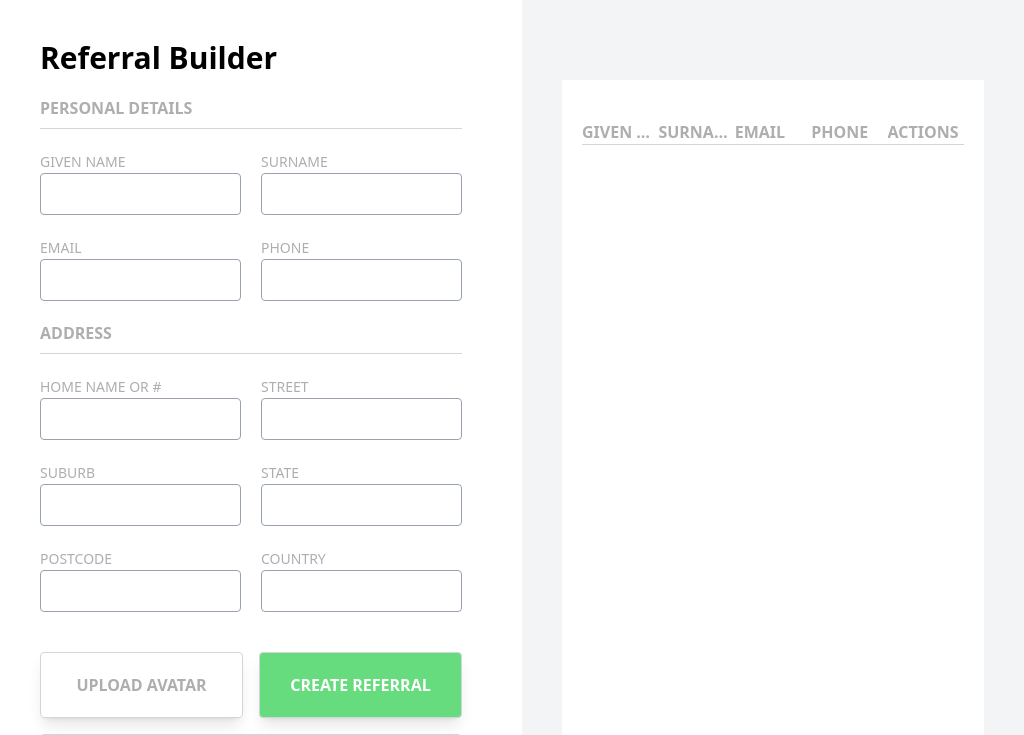
Test: REFERRAL › should be able to create referral
The width and height of the screenshot is (1024, 735).
In the field labelled "GIVEN NAME": {"x": 141, "y": 194} [40,173,241,215], type "John"
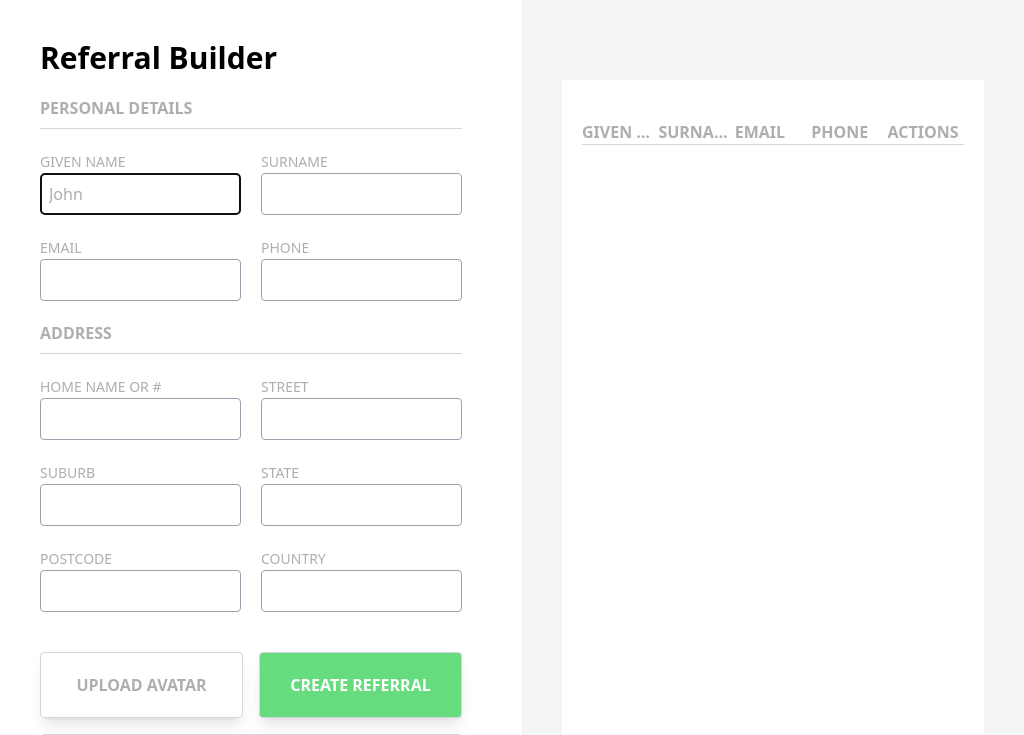
In the field labelled "SURNAME": {"x": 362, "y": 194} [261,173,462,215], type "Doe"
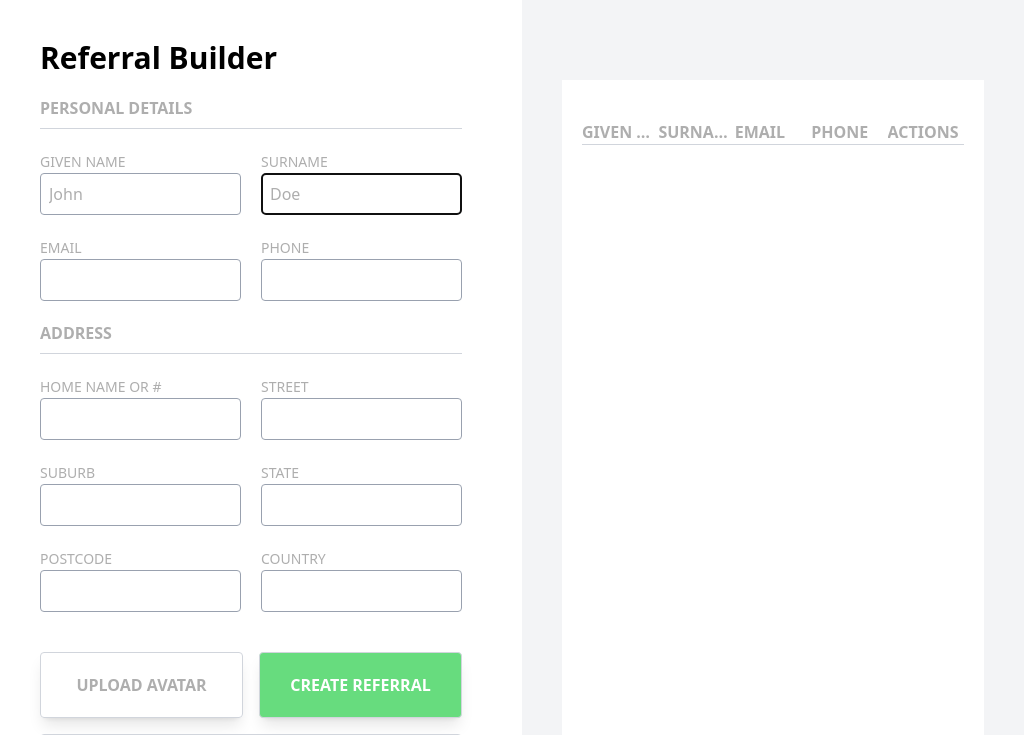
In the field labelled "EMAIL": {"x": 141, "y": 280} [40,259,241,301], type "johndoe@test.com"
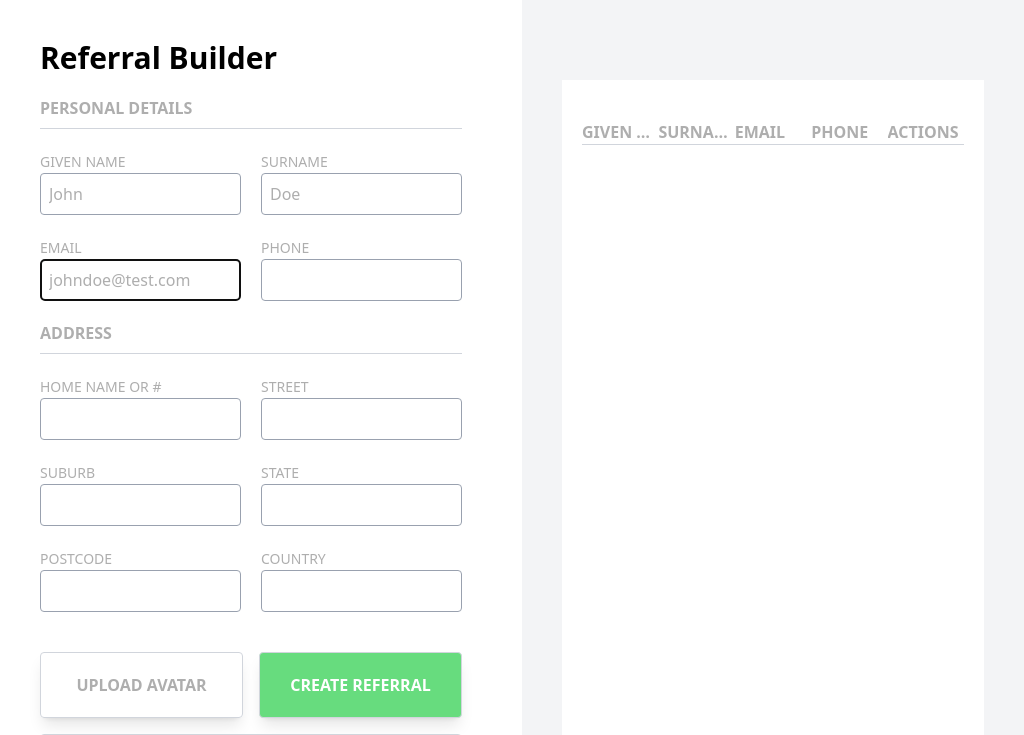
In the field labelled "PHONE": {"x": 362, "y": 280} [261,259,462,301], type "1234567890"
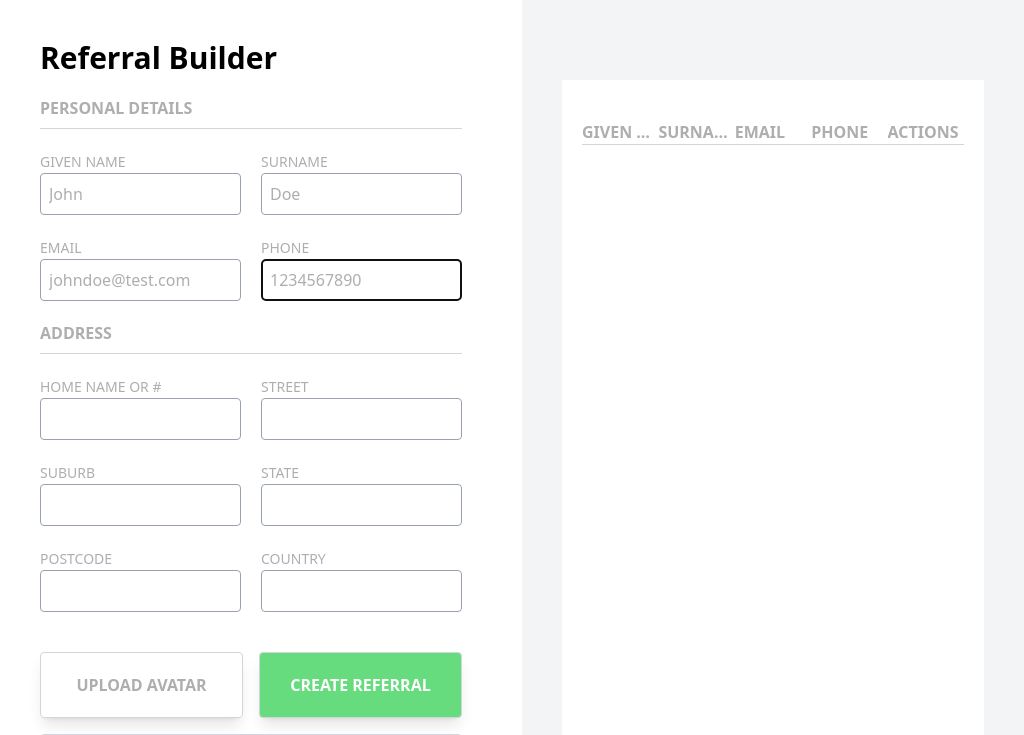
Click the button "create referral": {"x": 361, "y": 685} [259,652,462,718]
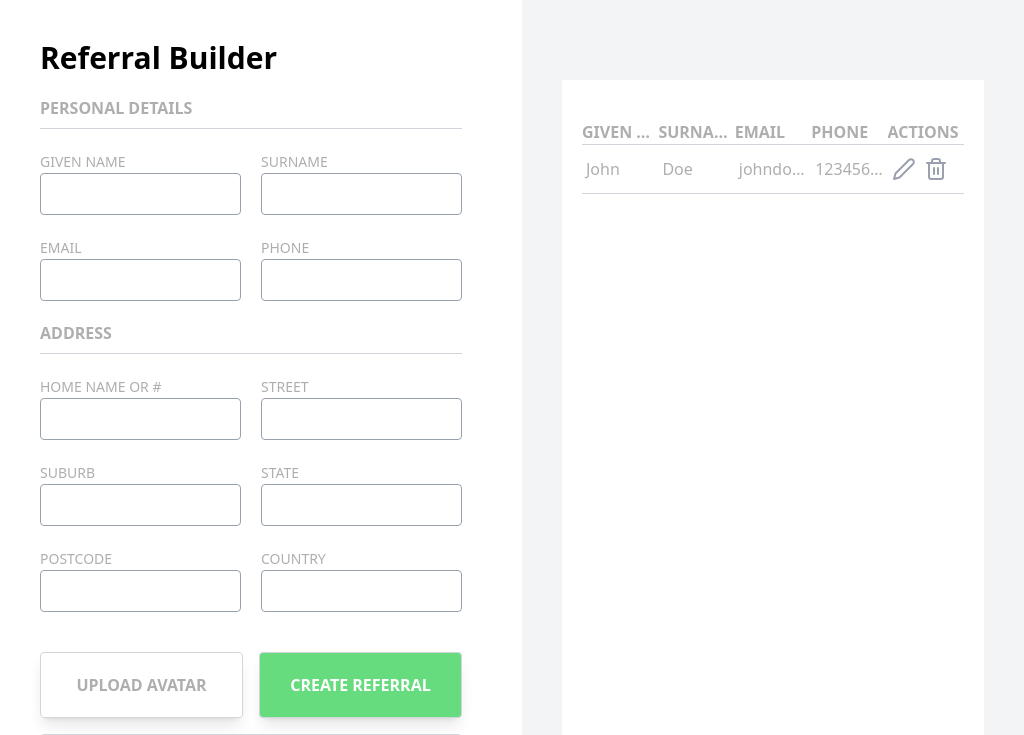
Expected: the text "John" is shown, [582,144,658,194]
Expected: the text "Doe" is shown, [658,144,735,194]
Expected: the text "johndoe@test.com" is shown, [735,144,811,194]
